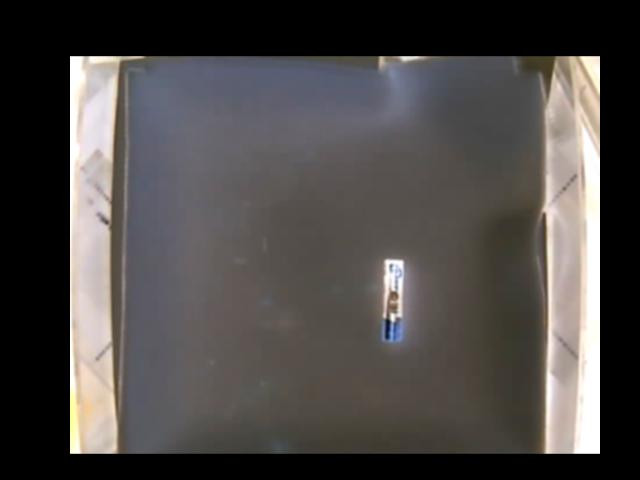Battery: (378, 259, 406, 344)
